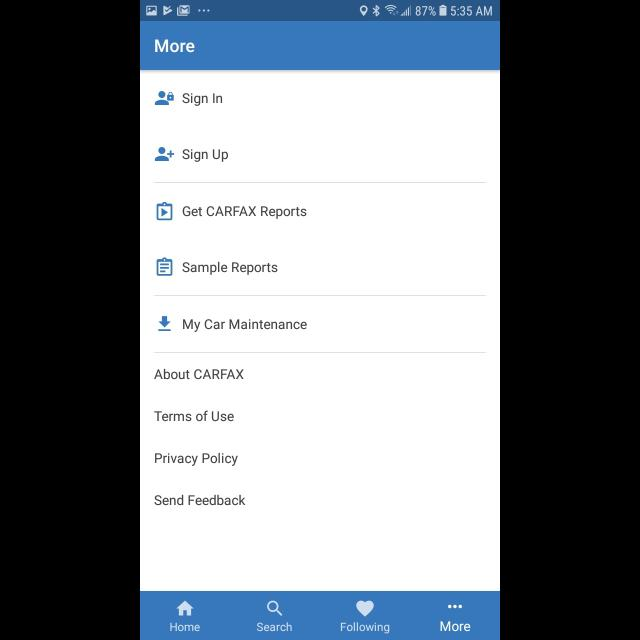icon: (157, 202, 173, 222), (356, 600, 374, 616), (177, 600, 195, 616), (157, 258, 173, 276), (155, 147, 175, 161), (154, 92, 174, 106), (267, 600, 283, 616), (158, 316, 172, 332), (448, 604, 462, 608)
text: (183, 205, 307, 219), (183, 319, 307, 333), (182, 261, 278, 275), (156, 452, 238, 466), (154, 494, 246, 506), (154, 368, 244, 379), (154, 410, 234, 422), (183, 149, 229, 163), (340, 622, 390, 634), (155, 39, 195, 53), (183, 93, 223, 107), (441, 620, 472, 632), (256, 622, 292, 632), (170, 622, 200, 632)
uppertaskbar: (140, 1, 500, 22)
